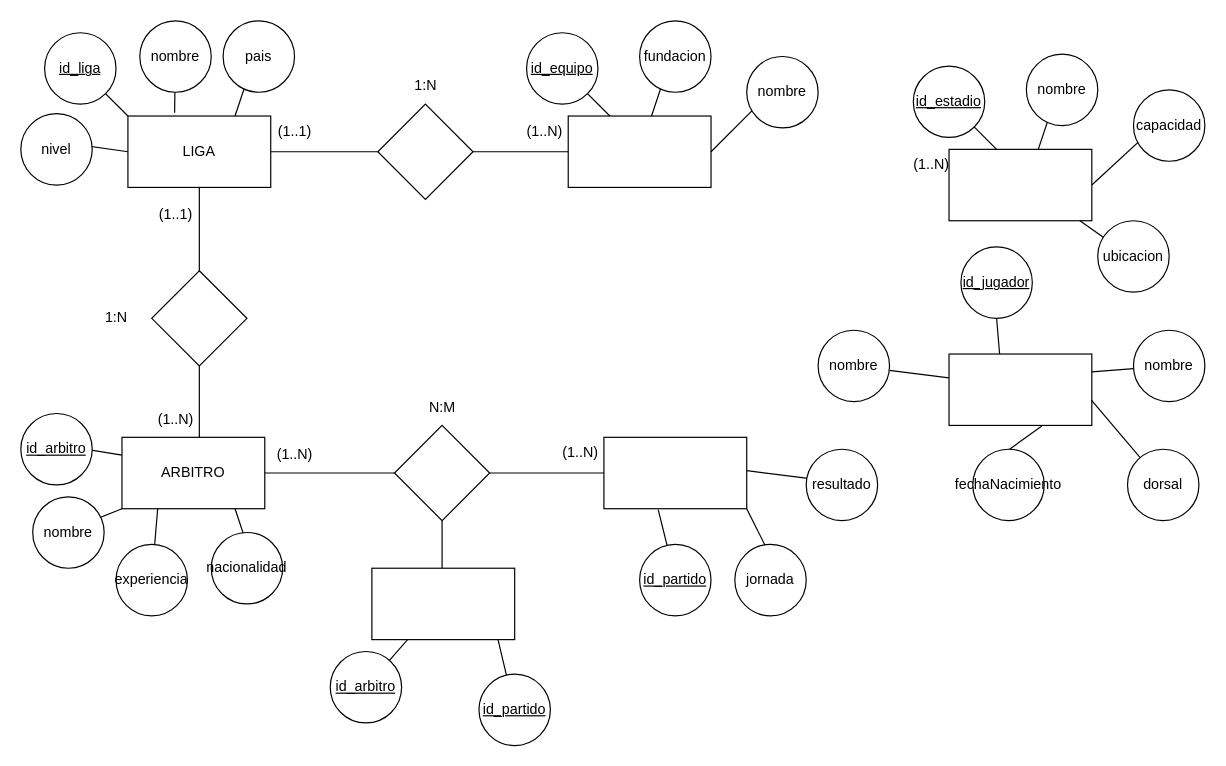
Image size: 1226x766. Some labels were removed from this diagram. The centre of each missing label's shape, as x and y in pixels:
ARBITRO_PARTIDO: (443,603)
EQUIPO: (639,151)
ESTADIO: (1020,184)
Juega: (425,151)
JUGADOR: (1020,389)
Maneja: (199,318)
PARTIDO: (675,472)
Supervisa: (441,472)
